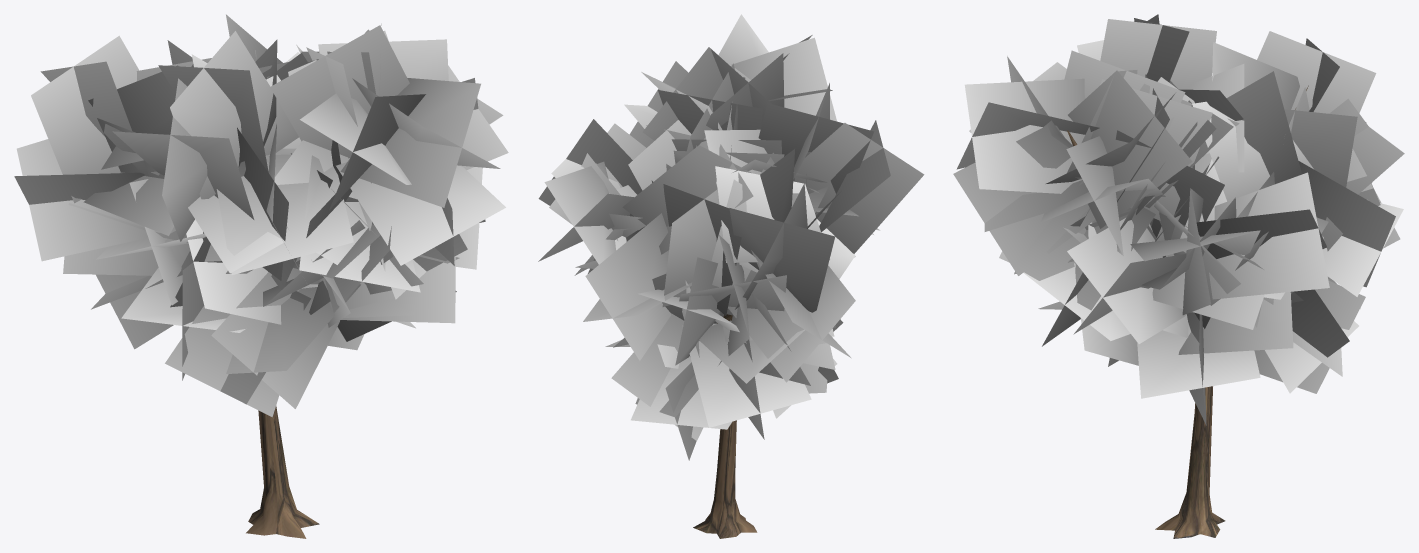
The model's file is 497tris.fbx.
3 views of the same model, side by side, from view 1: azimuth 30°, elevation 25°; view 2: azimuth 150°, elevation 25°; view 3: azimuth 270°, elevation 25° (orthographic). The views are drawn at different scales.
Visible parts, largest first — view 1: 497_tris; view 2: 497_tris; view 3: 497_tris.
Part boxes in pixels (x1,y1,x2,y2): 497_tris: [14, 14, 508, 538]; 497_tris: [538, 14, 924, 538]; 497_tris: [953, 14, 1404, 538].
Size of the model in its own units: 8.06 by 9.53 by 8.05.
